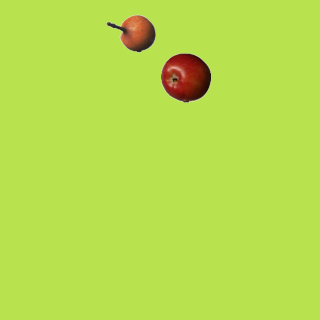Apple Braeburn: (160, 52, 210, 102)
Granadilla: (105, 8, 155, 58)
